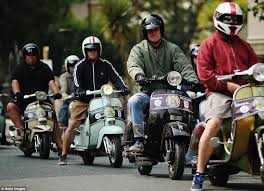helmet: (213, 2, 245, 36), (140, 12, 167, 45), (80, 35, 106, 60), (23, 43, 41, 66)
